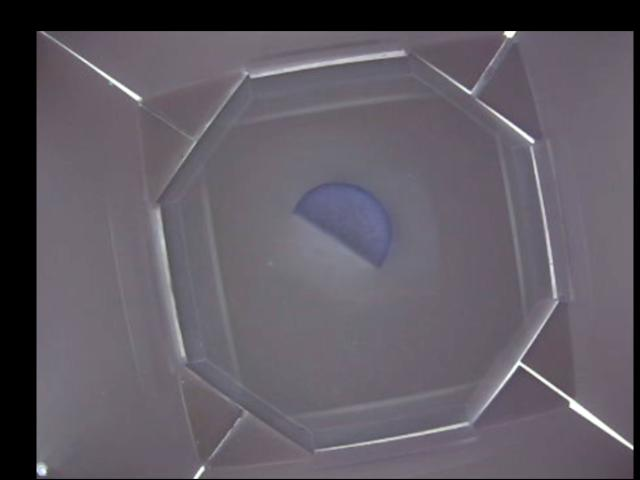Mooli: (290, 183, 395, 268)
